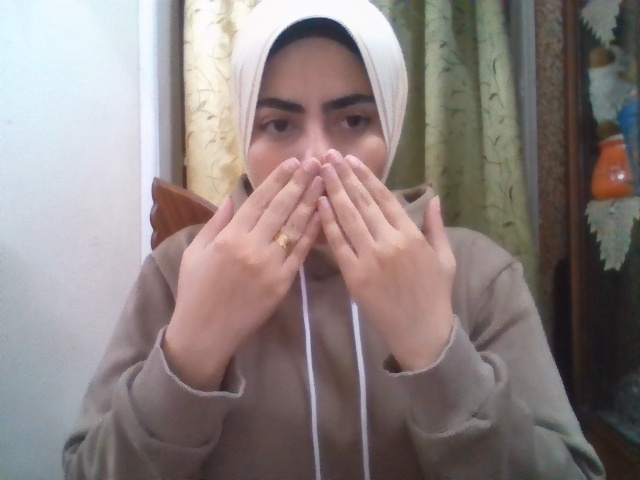thanks: (171, 149, 457, 350)
